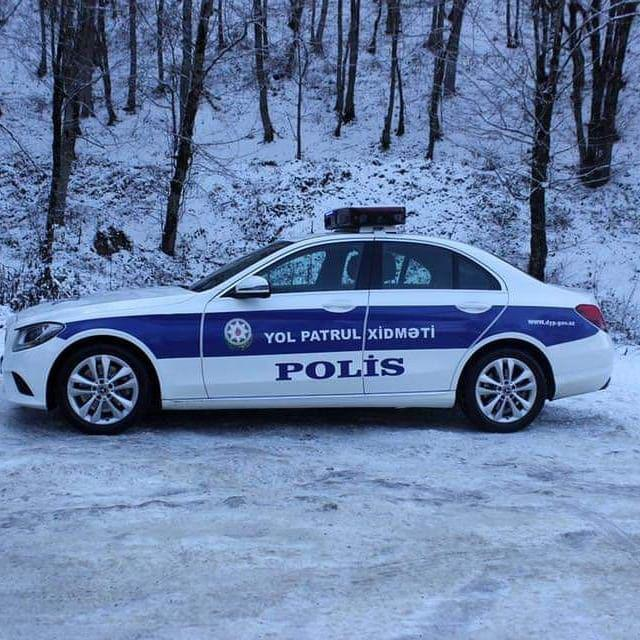police_car: (4, 203, 615, 433)
